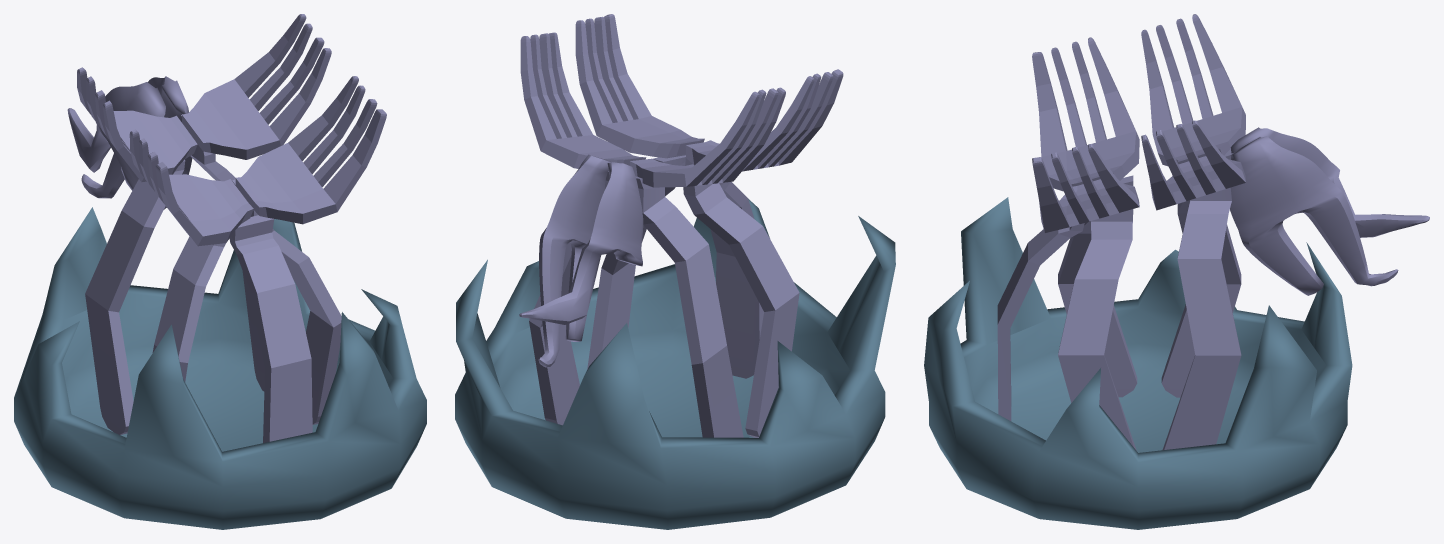
File: CAVALHO_TALHER.FBX
3 renders of one model, left to right at view 1: azimuth 30°, elevation 25°; view 2: azimuth 150°, elevation 25°; view 3: azimuth 270°, elevation 25°, orthographic. The views are drawn at different scales.
Visible parts, largest first — view 1: Cavalo; view 2: Cavalo; view 3: Cavalo.
Part boxes in pixels (x1=…): Cavalo: x1=14, y1=14, x2=426, y2=529; Cavalo: x1=455, y1=14, x2=895, y2=529; Cavalo: x1=924, y1=14, x2=1429, y2=529.
Size of the model in its own units: 5.4 by 5.59 by 6.73.
